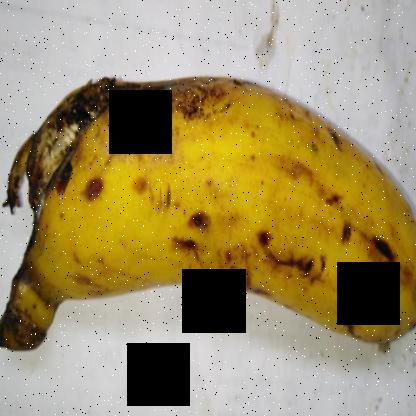ripe: (116, 62, 415, 371)
rotten: (1, 22, 181, 256)
